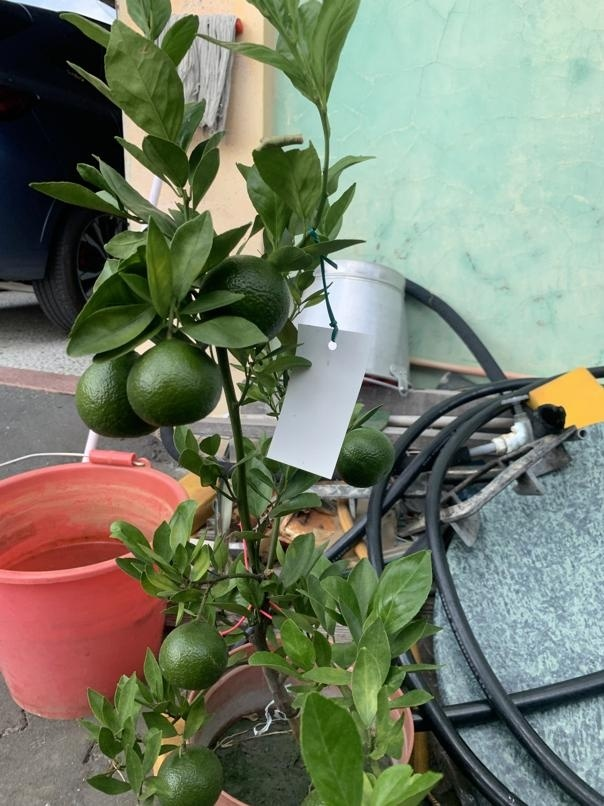Tangerine: (126, 334, 219, 427), (203, 252, 289, 345), (159, 615, 231, 690), (155, 745, 221, 803), (340, 426, 398, 487)
